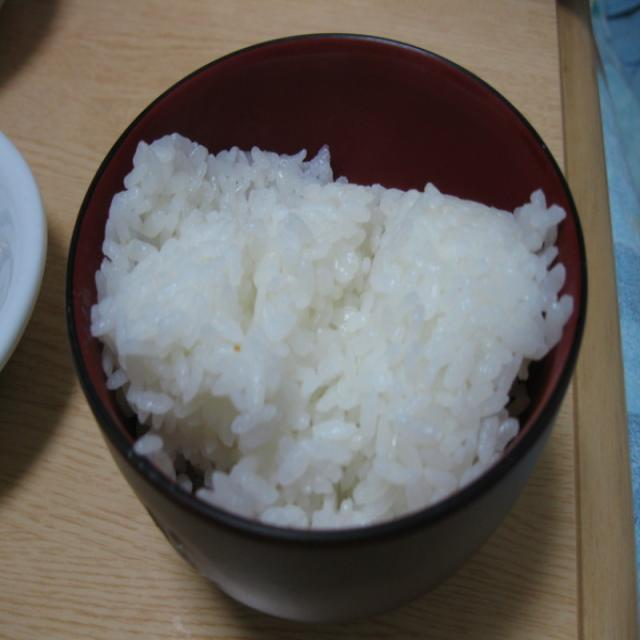Rice: (96, 126, 574, 536)
